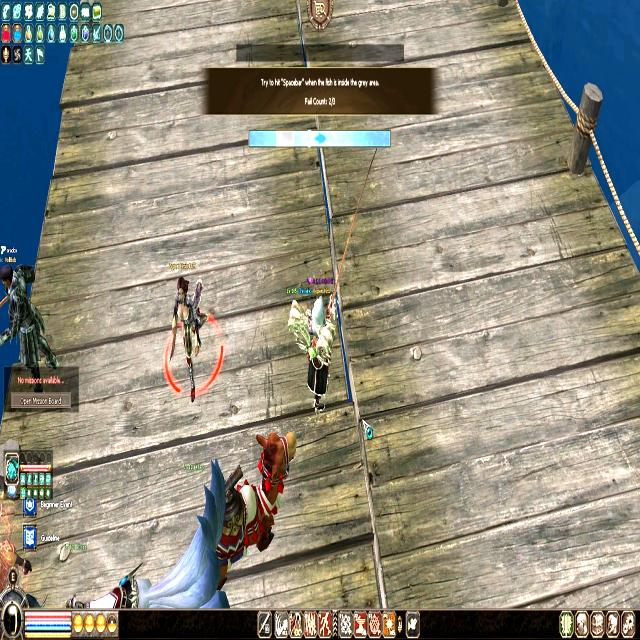fishes: (314, 131, 326, 145)
